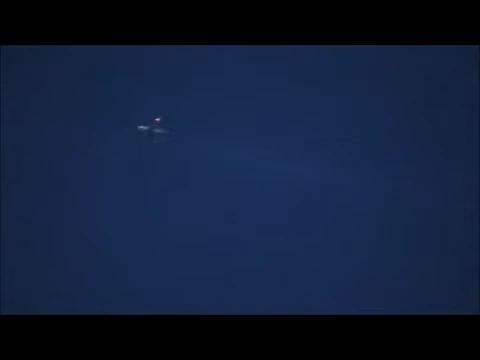Plane: (117, 107, 193, 148)
